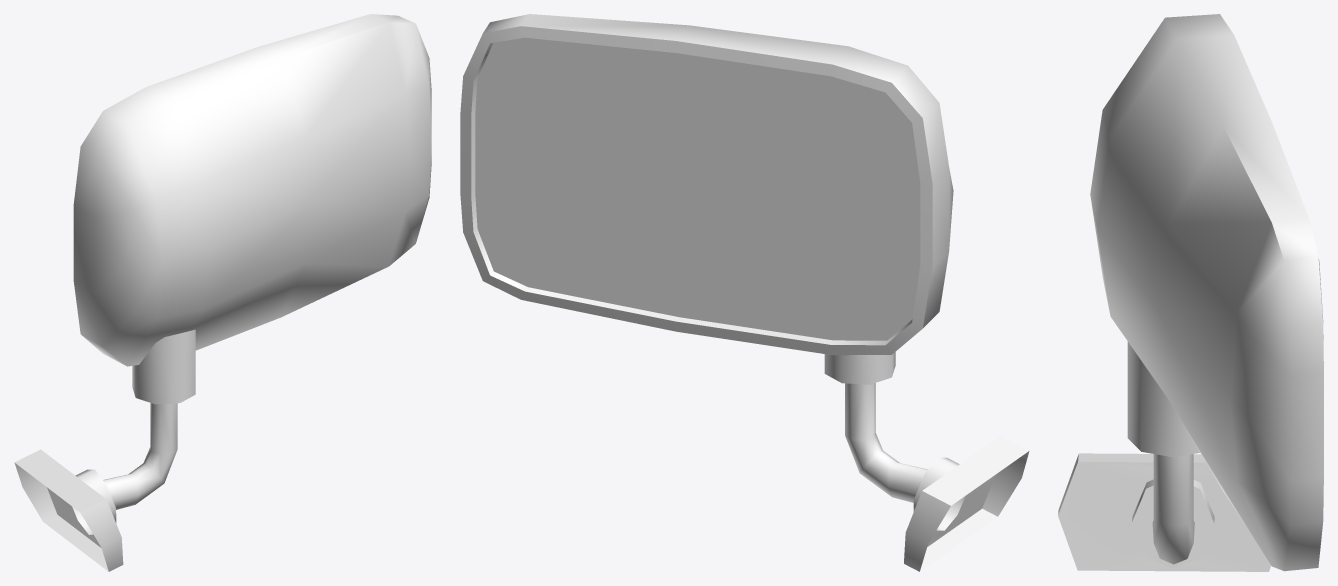
The picture shows the model from 3 angles, left to right: view 1: azimuth 30°, elevation 25°; view 2: azimuth 150°, elevation 25°; view 3: azimuth 270°, elevation 25°; orthographic projection. The views are drawn at different scales.
Bounding box in the file's own units: 0.1522 × 0.1437 × 0.0583.
Materials: 1 (1 with a texture image).
